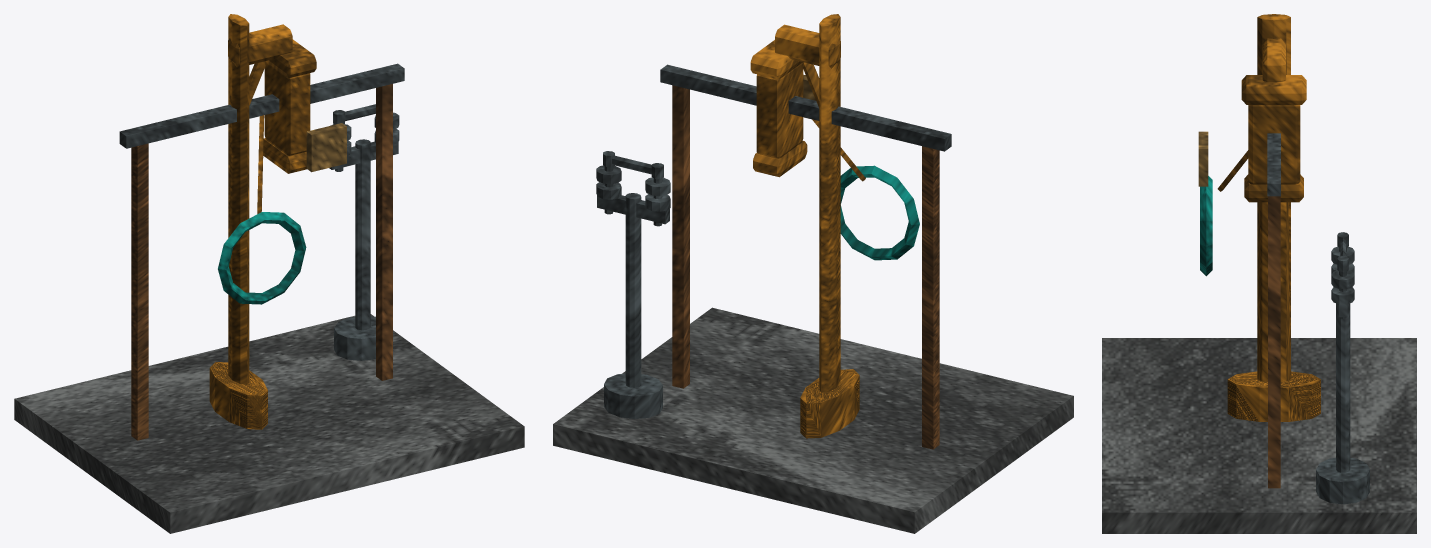
File: downriver-tram-lamp.glb
The picture shows the model from 3 angles, left to right: view 1: azimuth 30°, elevation 25°; view 2: azimuth 150°, elevation 25°; view 3: azimuth 270°, elevation 25°; orthographic projection. The views are drawn at different scales.
Visible parts, largest first — view 1: downriver-tram-lamp; view 2: downriver-tram-lamp; view 3: downriver-tram-lamp.
Boxes of the visible parts, <box> form: downriver-tram-lamp: <box>14,14,524,533</box>; downriver-tram-lamp: <box>553,14,1073,533</box>; downriver-tram-lamp: <box>1102,14,1416,533</box>.
Bounding box in the file's own units: 4.2 × 4.69 × 3.2.
1 material, 1 textured.
